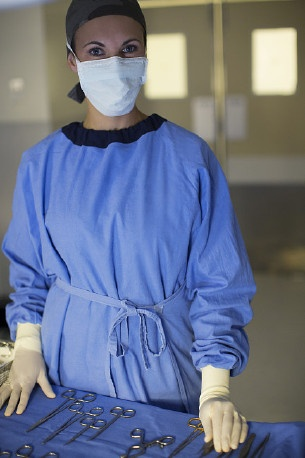Mask: (79, 36, 158, 114)
